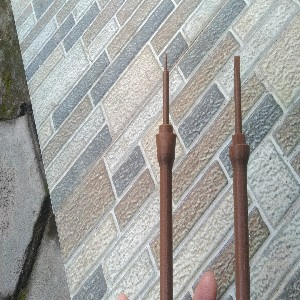obeng: (229, 54, 250, 300)
solder: (156, 52, 178, 300)
